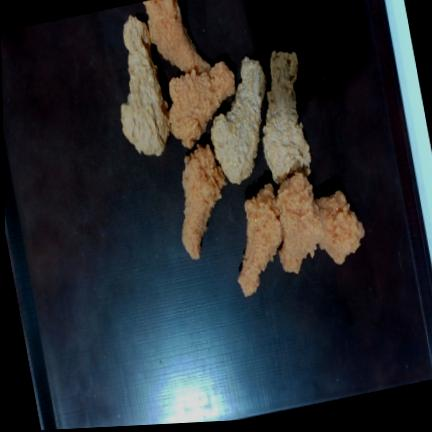chicken: (211, 57, 266, 184), (121, 15, 170, 155), (263, 51, 311, 184), (169, 61, 235, 148), (238, 184, 283, 297), (143, 0, 211, 74), (182, 145, 226, 258), (277, 173, 322, 273), (314, 191, 364, 264)
